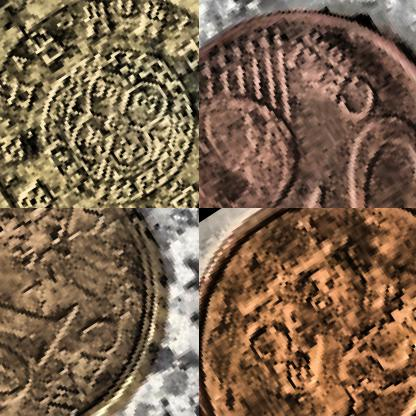coin: (199, 0, 415, 207), (199, 208, 415, 415), (0, 0, 198, 207), (0, 208, 198, 415)
